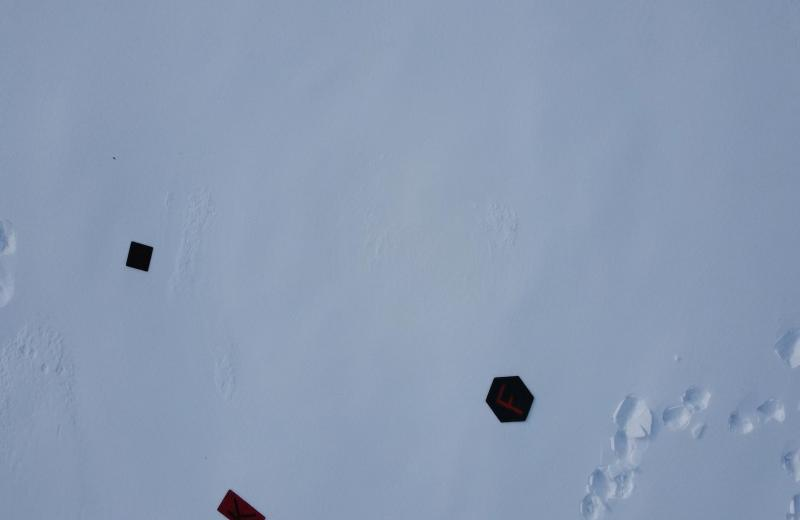Hexagon: (486, 375, 536, 426)
Rectangle: (217, 487, 268, 520)
Square: (126, 240, 155, 272)
